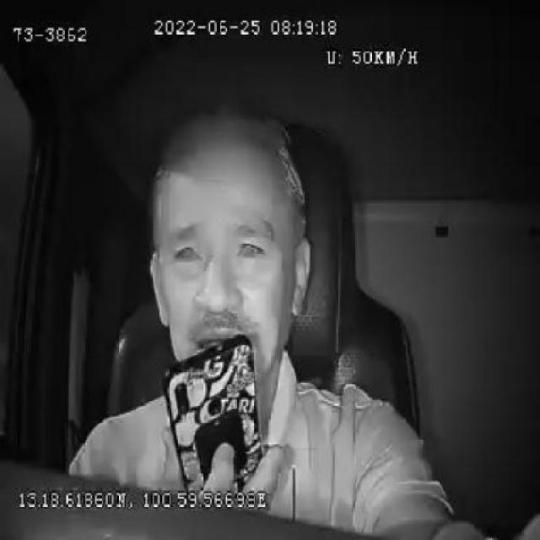phone: (163, 333, 261, 487)
